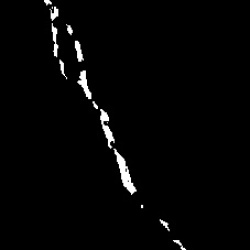crack: (115, 149, 137, 197), (93, 101, 116, 146), (78, 70, 92, 101), (46, 1, 60, 18), (53, 24, 59, 56), (76, 41, 84, 65), (58, 61, 67, 79), (170, 239, 184, 248), (161, 221, 169, 230), (67, 25, 73, 35), (139, 203, 142, 208)
